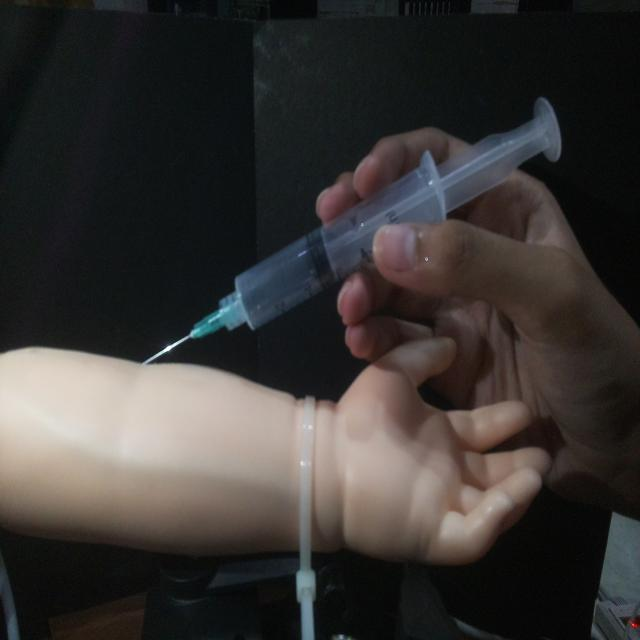23deg: (138, 91, 566, 368)
